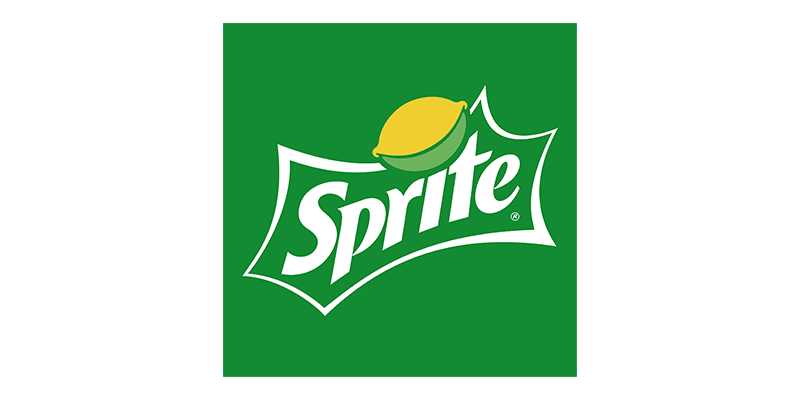sprite: (280, 129, 519, 285), (283, 129, 519, 285)
